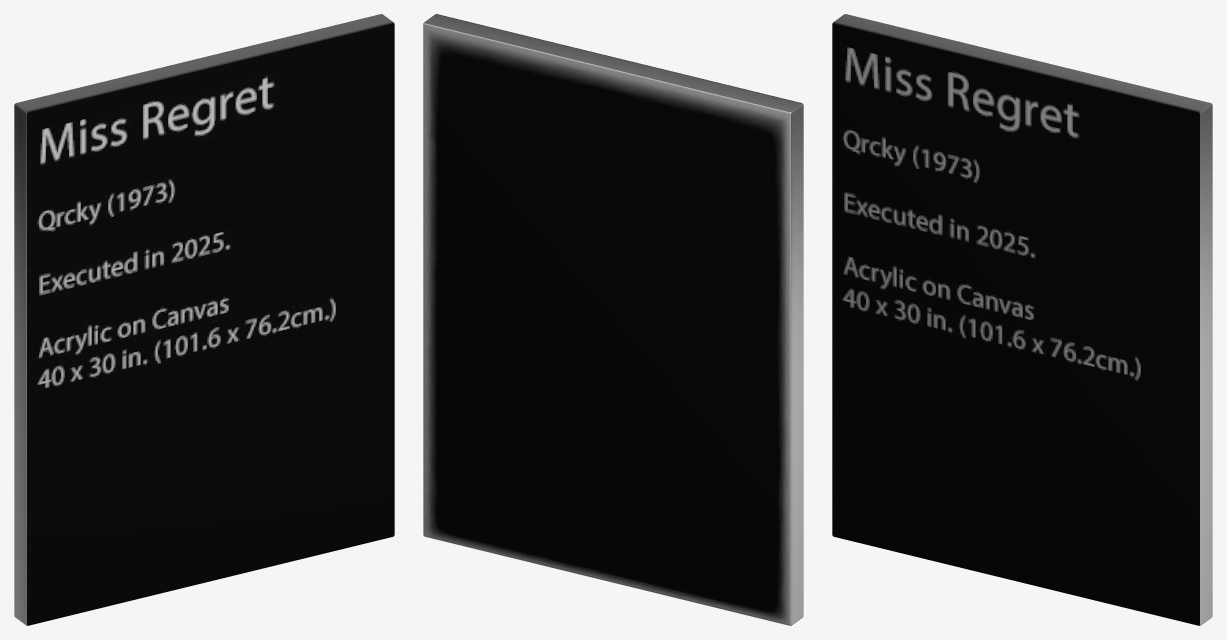
Rendered from miss_regret.glb.
3 views of the same model, side by side, from view 1: azimuth 30°, elevation 25°; view 2: azimuth 150°, elevation 25°; view 3: azimuth 330°, elevation 25° (orthographic).
Parts seen in each view (by area): view 1: Canvas; view 2: Canvas; view 3: Canvas.
Part boxes in pixels (<box>): Canvas: <box>14,14,394,625</box>; Canvas: <box>423,14,803,625</box>; Canvas: <box>832,14,1212,625</box>.
Size of the model in its own units: 1.56 by 2.08 by 0.0956.
Materials: 1 (1 with a texture image).
